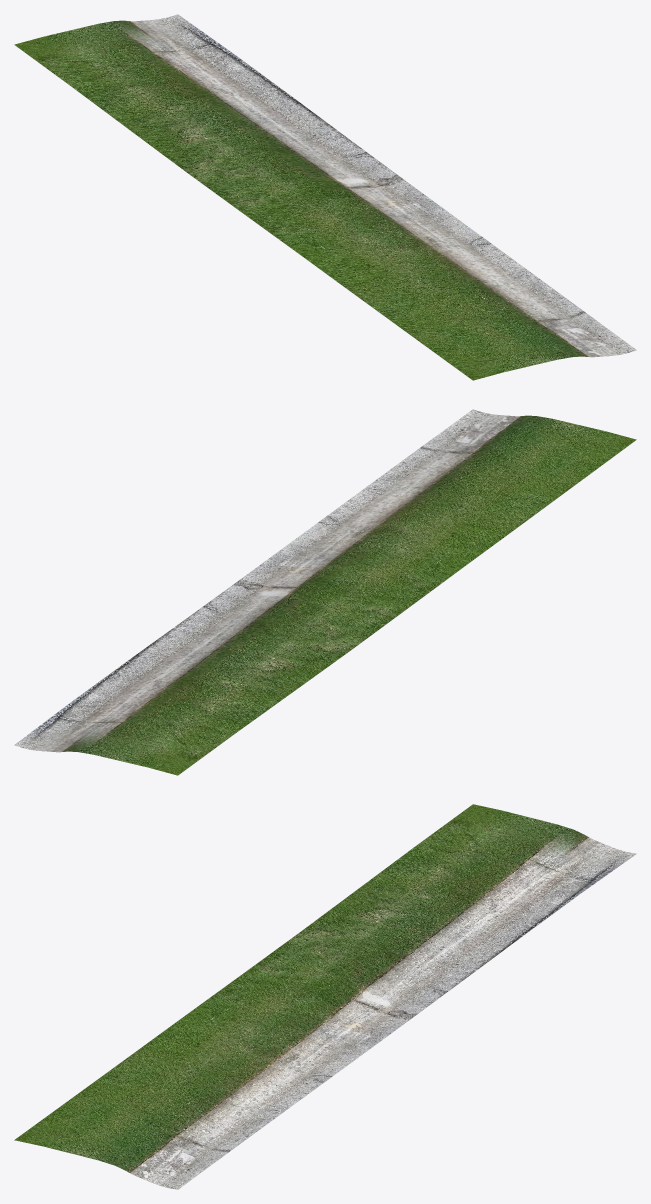
The model's file is fab-kantsten.glb.
3 views of the same model, one above another, from view 1: azimuth 30°, elevation 25°; view 2: azimuth 150°, elevation 25°; view 3: azimuth 330°, elevation 25° (orthographic).
Parts seen in each view (by area): view 1: kantsten; view 2: kantsten; view 3: kantsten.
Part boxes in pixels (box(x1,y1,x2,y2)): kantsten: box(14, 14, 636, 380); kantsten: box(14, 409, 636, 775); kantsten: box(14, 804, 636, 1189).
Size of the model in its own units: 1.65 by 0.1075 by 8.
1 material, 1 textured.
